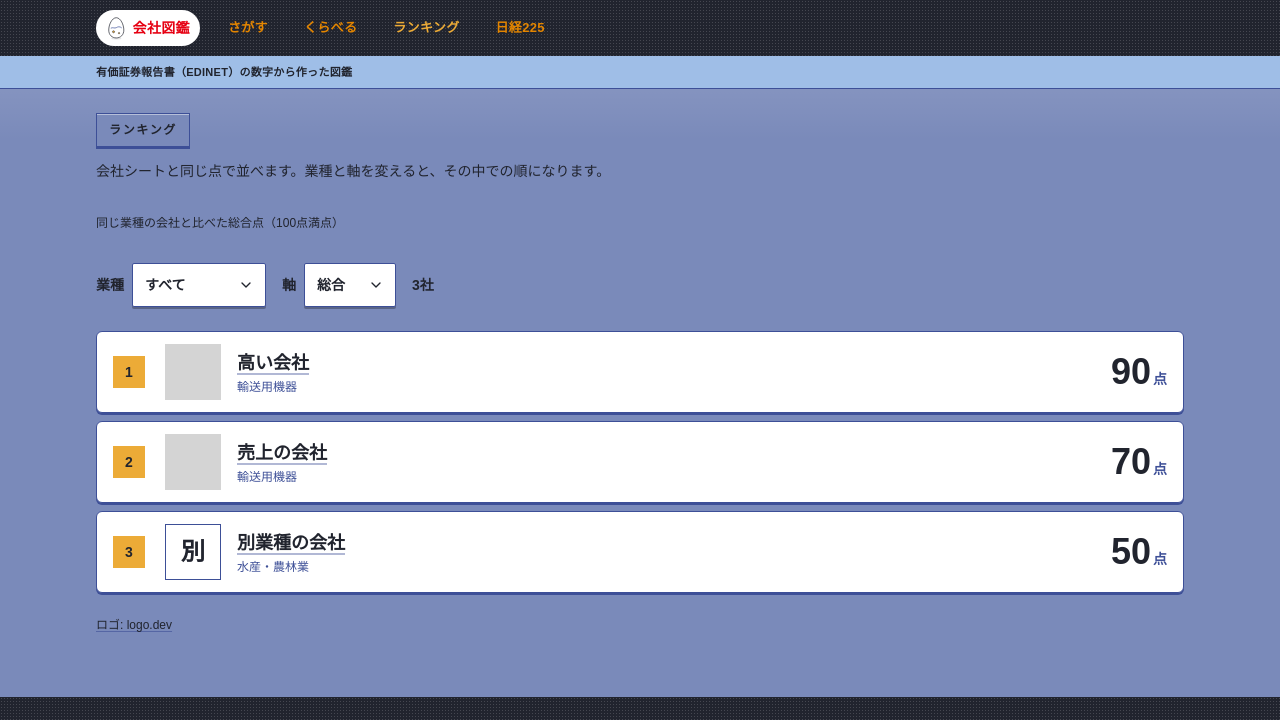
Scenario: ランキングは総合点から始まり、業種と軸で並びが変わる
Check: the heading "ランキング" is shown, box [96,113,190,147]
Check: the links "会社" read "高い会社", "売上の会社", "別業種の会社", in this order, box [237,353,309,373]; [237,443,327,463]; [237,533,345,553]
Select "売上高" in the dropdown labelled "軸" at (350, 285), box [304,263,396,307]
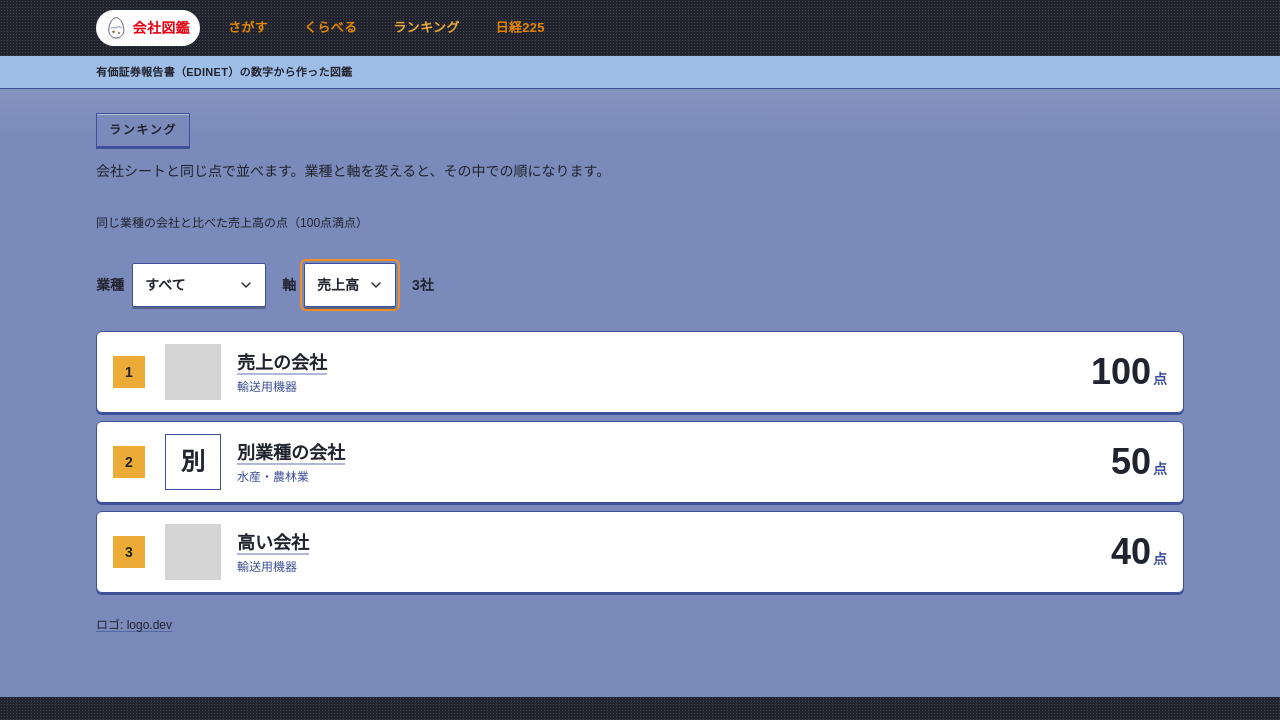
Check: the link "売上の会社" is shown, box [237,353,327,373]
Select "輸送用機器" in the dropdown labelled "業種" at (199, 285), box [132,263,266,307]
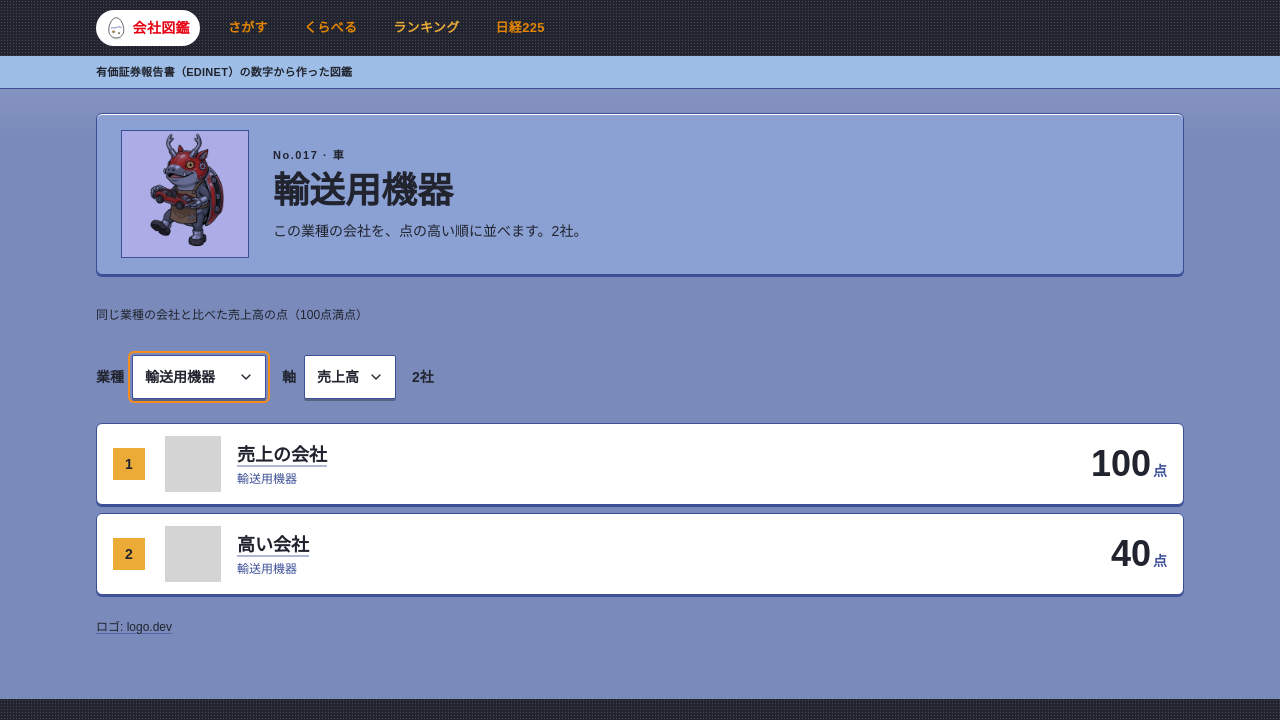
Check: the link "日経225" is shown, box [496,20,545,35]
Check: the link "別業種の会社" is gone
